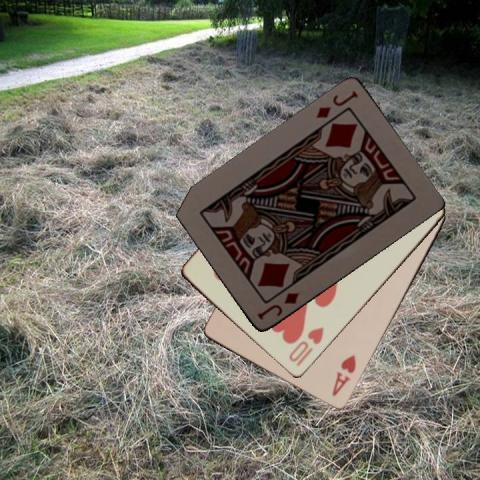10h: (286, 324, 326, 368)
Ah: (329, 352, 358, 398)
Jd: (254, 289, 300, 322), (314, 88, 360, 121)
